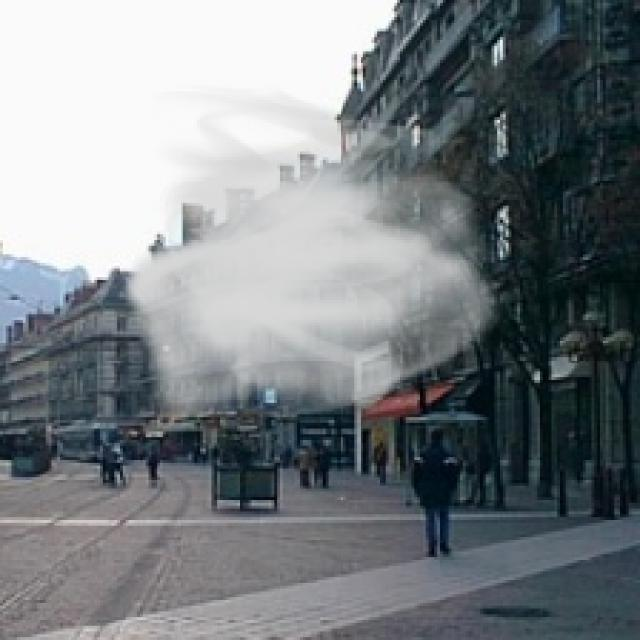Smoke: (120, 82, 512, 428)
